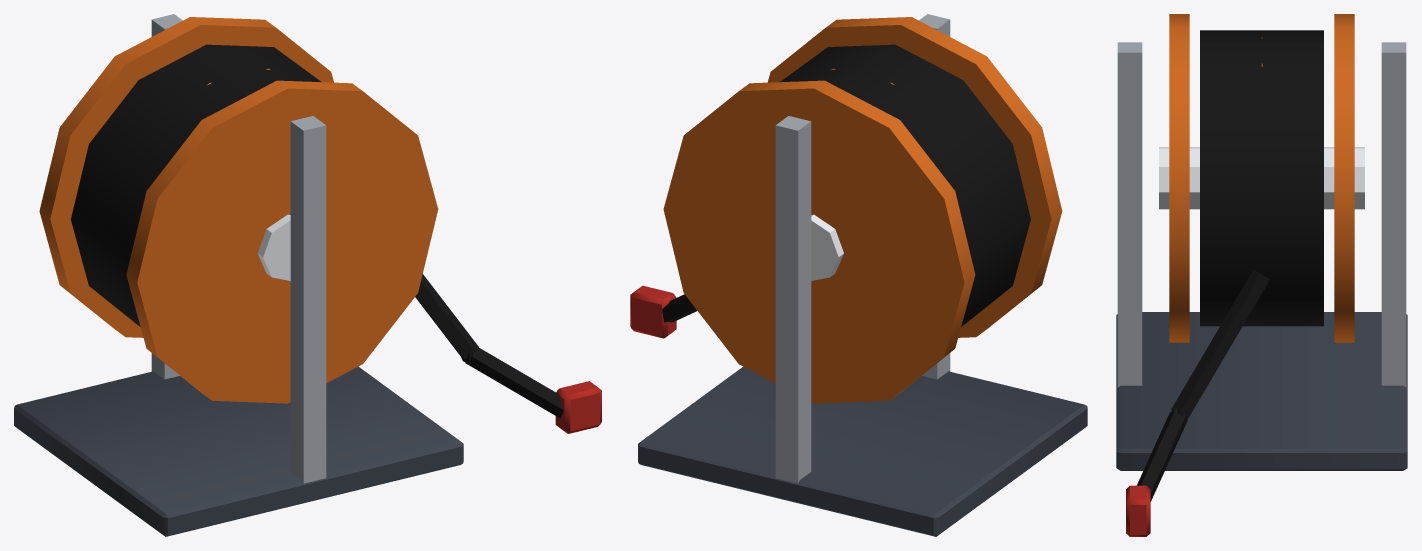
The model's file is engtool_cable_reel.glb.
3 renders of one model, left to right at view 1: azimuth 30°, elevation 25°; view 2: azimuth 150°, elevation 25°; view 3: azimuth 270°, elevation 25°, orthographic. The views are drawn at different scales.
Visible parts, largest first — view 1: engtool_cable_reel; view 2: engtool_cable_reel; view 3: engtool_cable_reel.
Part boxes in pixels (bbox=[...]): engtool_cable_reel: bbox=[14, 14, 601, 536]; engtool_cable_reel: bbox=[630, 14, 1087, 536]; engtool_cable_reel: bbox=[1116, 14, 1407, 536].
Bounding box in the file's own units: 1.18 × 1 × 0.706.
